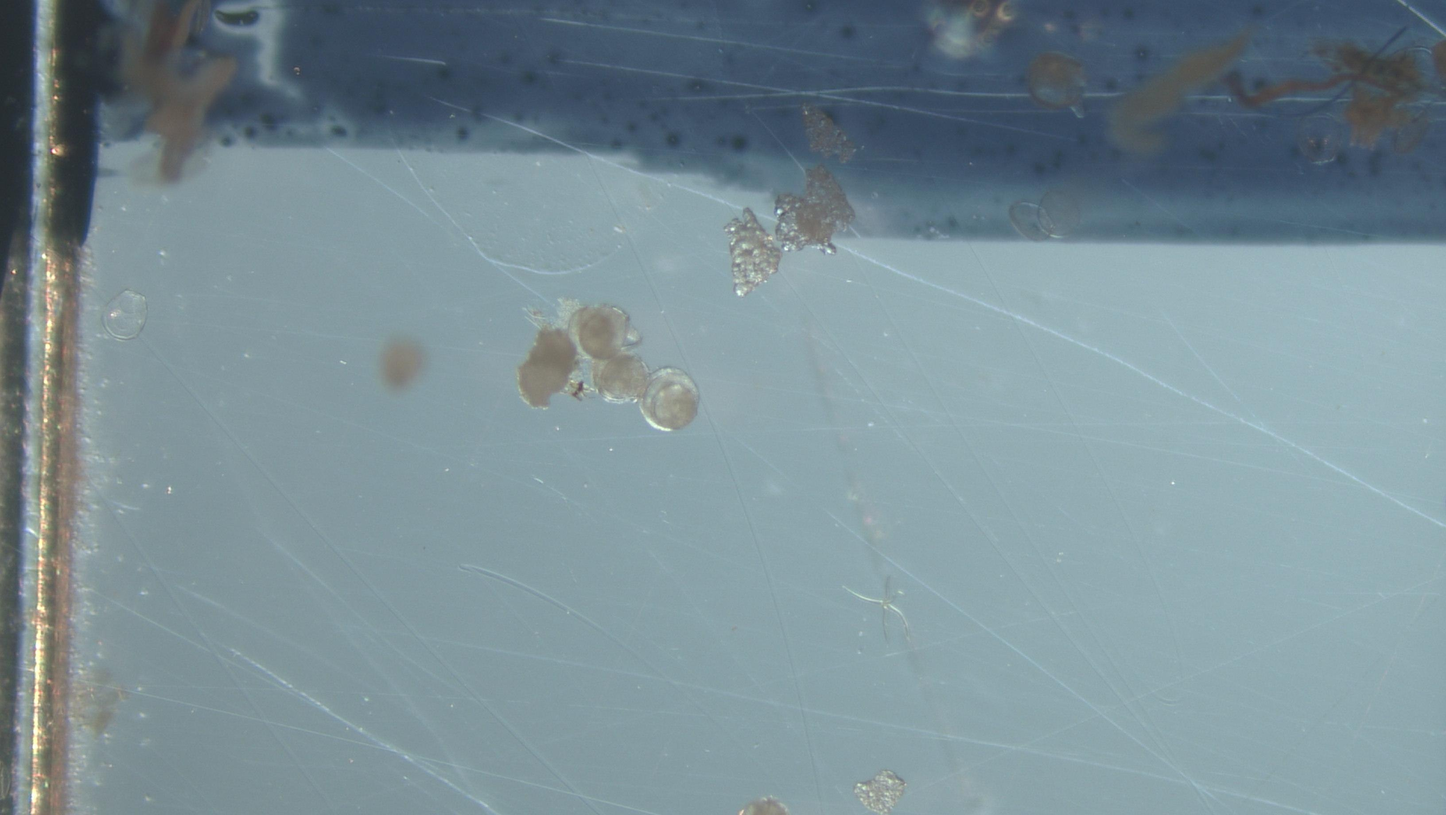dead: (1009, 191, 1081, 241), (103, 292, 146, 339), (1300, 116, 1340, 165)
live: (639, 368, 699, 431), (570, 307, 628, 361), (591, 354, 650, 401)
